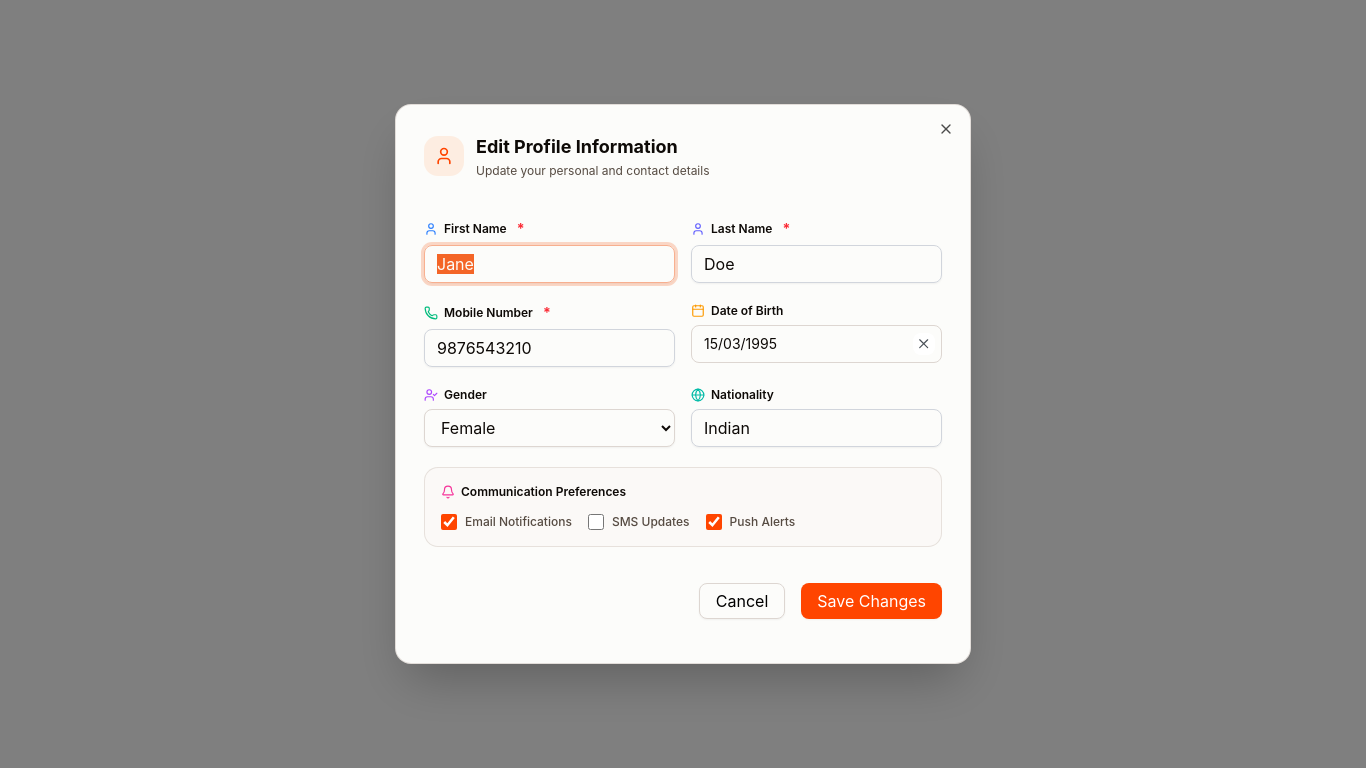
Scenario: EditProfileDialog › shows validation error when last name is cleared and form submitted
This screenshot has width=1366, height=768.
Clear the field labelled "Last Name": (816, 264) [691,245,942,283]
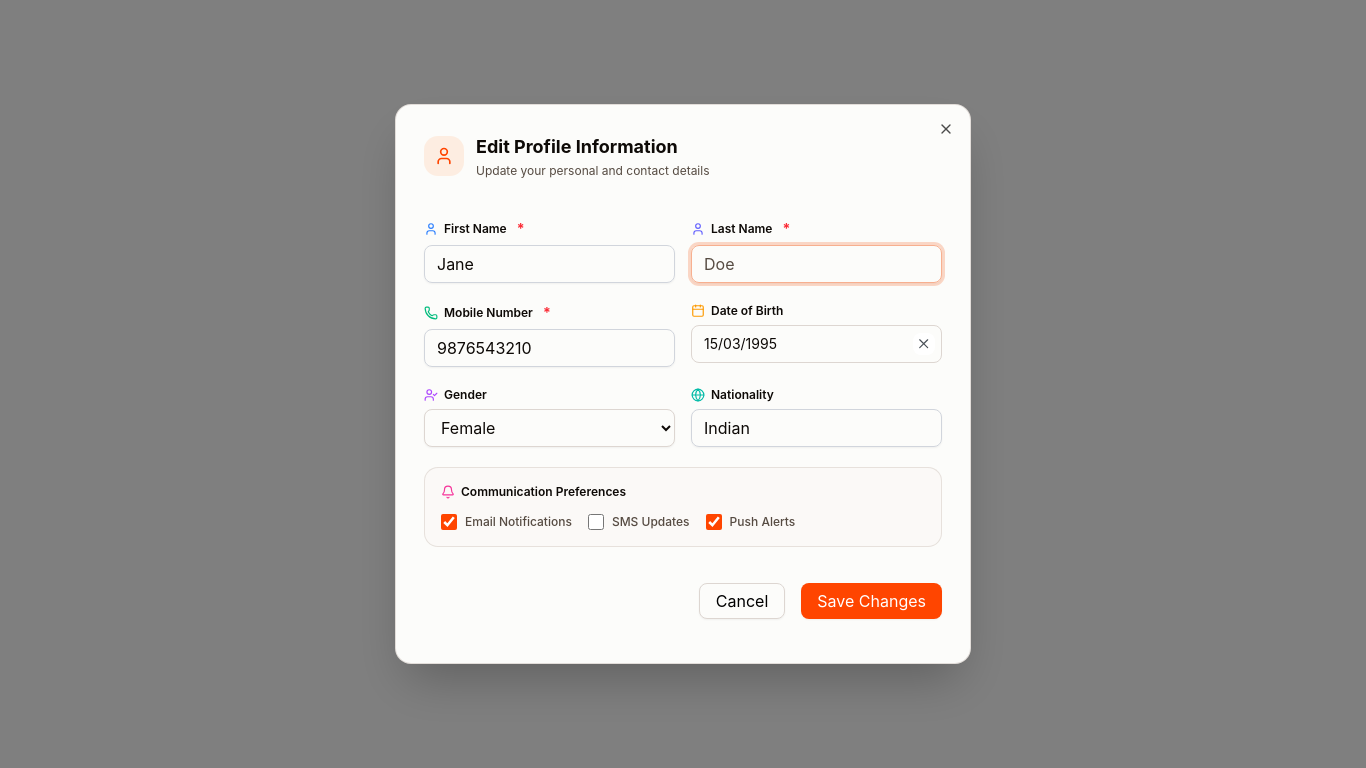
Click the button "Save Changes": (872, 601) [801,583,942,619]
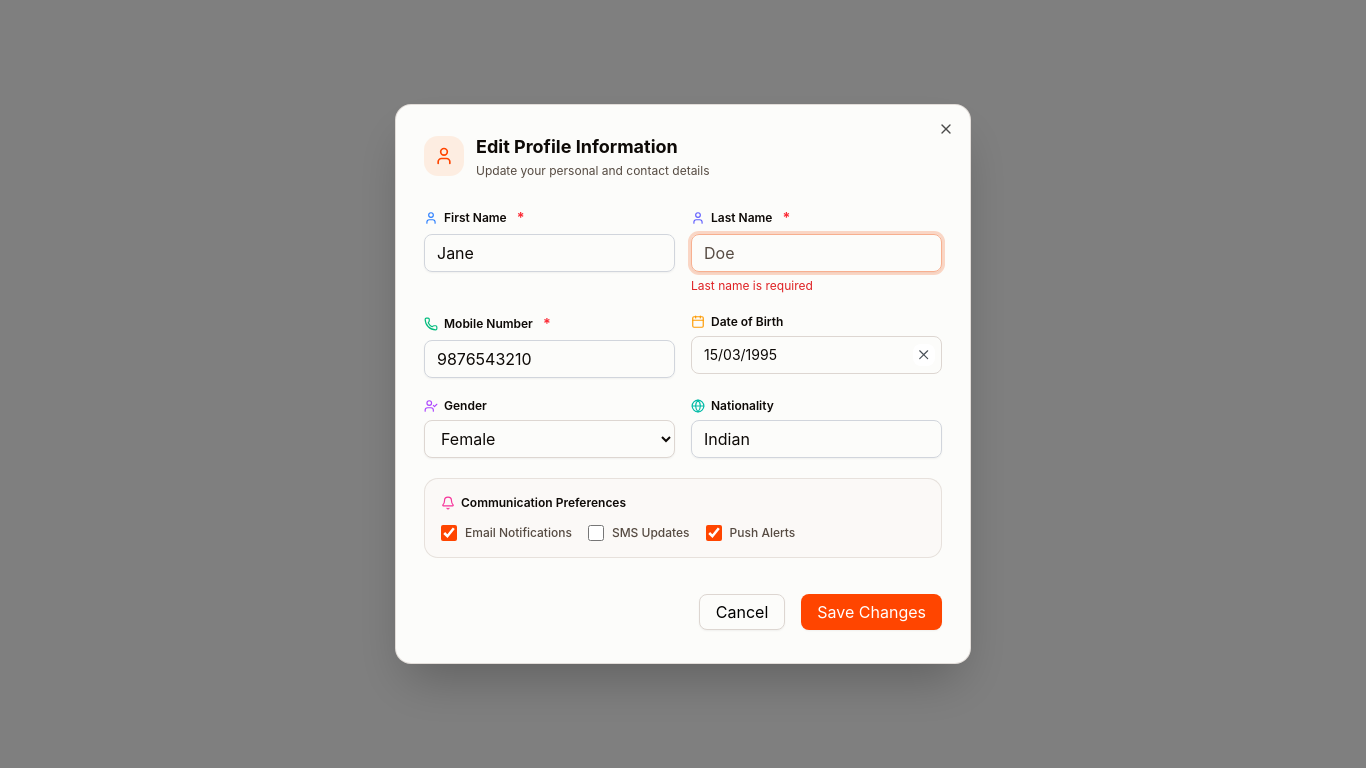
expect the text "Last name is required" is shown: met, box [691,278,813,293]
